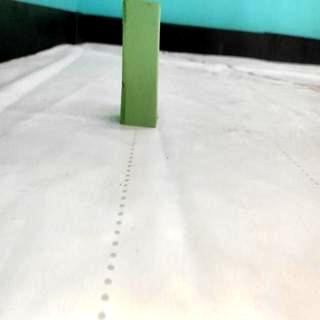greenbox: (124, 0, 160, 126)
